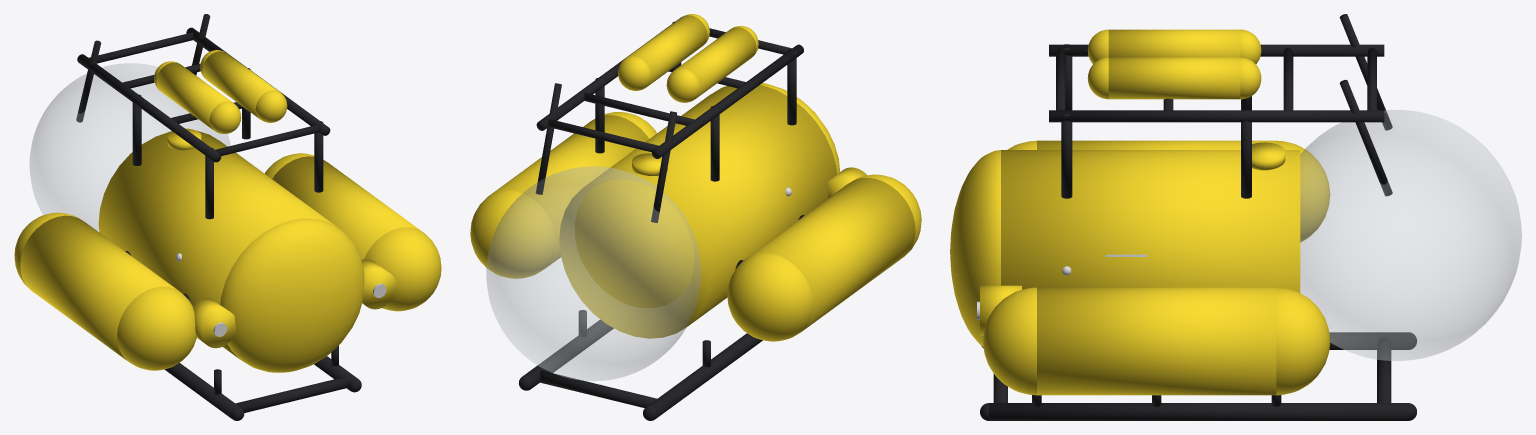
The model's file is Submarine 3.glb.
3 views of the same model, side by side, from view 1: azimuth 30°, elevation 25°; view 2: azimuth 150°, elevation 25°; view 3: azimuth 270°, elevation 25° (orthographic). The views are drawn at different scales.
Visible parts, largest first — view 1: Sub3_Hull, Sub3_Hull_RearCap, Sub3_Acrylic_Sphere, Sub3_BallastTank_L, Sub3_BallastTank_R, Sub3_BallastTank_L_Cap_-2.0, Sub3_BallastTank_R_Cap_-2.0, Sub3_TopCanister_2, Sub3_TopCanister_1, Sub3_CageRail_L, Sub3_Thruster_L, Sub3_SkidCrossBrace_1 (+14 smaller); view 2: Sub3_Hull, Sub3_Acrylic_Sphere, Sub3_BallastTank_L, Sub3_BallastTank_L_Cap_2.0, Sub3_BallastTank_R_Cap_2.0, Sub3_BallastTank_R, Sub3_TopCanister_1, Sub3_TopCanister_2, Sub3_CageRail_L, Sub3_Skid_L, Sub3_SkidCrossBrace_2, Sub3_Skid_R (+15 smaller); view 3: Sub3_Acrylic_Sphere, Sub3_Hull, Sub3_BallastTank_R, Sub3_Skid_R, Sub3_Hull_RearCap, Sub3_TopCanister_2, Sub3_BallastTank_R_Cap_2.0, Sub3_BallastTank_R_Cap_-2.0, Sub3_CageRail_R, Sub3_TopCanister_1, Sub3_BallastTank_L_Cap_2.0, Sub3_BallastTank_L (+16 smaller).
Boxes of the visible parts, <box> form: Sub3_Hull: <box>98,130,339,358</box>; Sub3_Hull_RearCap: <box>220,218,364,372</box>; Sub3_Acrylic_Sphere: <box>29,63,230,231</box>; Sub3_BallastTank_L: <box>20,215,179,360</box>; Sub3_BallastTank_R: <box>272,156,422,259</box>; Sub3_BallastTank_L_Cap_-2.0: <box>117,286,196,370</box>; Sub3_BallastTank_R_Cap_-2.0: <box>364,227,441,311</box>; Sub3_TopCanister_2: <box>202,51,278,118</box>; Sub3_TopCanister_1: <box>156,62,232,129</box>; Sub3_CageRail_L: <box>77,54,221,162</box>; Sub3_Thruster_L: <box>192,298,236,348</box>; Sub3_SkidCrossBrace_1: <box>235,377,346,412</box>; Sub3_Hull: <box>559,85,836,338</box>; Sub3_Acrylic_Sphere: <box>486,166,700,380</box>; Sub3_BallastTank_L: <box>747,178,915,331</box>; Sub3_BallastTank_L_Cap_2.0: <box>727,252,813,341</box>; Sub3_BallastTank_R_Cap_2.0: <box>470,190,555,278</box>; Sub3_BallastTank_R: <box>490,115,648,267</box>; Sub3_TopCanister_1: <box>675,27,756,98</box>; Sub3_TopCanister_2: <box>626,15,707,86</box>; Sub3_CageRail_L: <box>652,44,803,158</box>; Sub3_Skid_L: <box>647,333,762,418</box>; Sub3_SkidCrossBrace_2: <box>540,370,656,407</box>; Sub3_Skid_R: <box>523,319,613,388</box>; Sub3_Acrylic_Sphere: <box>1300,110,1521,360</box>; Sub3_Hull: <box>1001,150,1300,292</box>; Sub3_BallastTank_R: <box>1037,287,1276,395</box>; Sub3_Skid_R: <box>989,403,1408,420</box>; Sub3_Hull_RearCap: <box>950,150,1000,346</box>; Sub3_TopCanister_2: <box>1108,57,1240,99</box>; Sub3_BallastTank_R_Cap_2.0: <box>1276,287,1330,395</box>; Sub3_BallastTank_R_Cap_-2.0: <box>983,287,1036,395</box>; Sub3_CageRail_R: <box>1049,110,1384,122</box>; Sub3_TopCanister_1: <box>1108,29,1240,57</box>; Sub3_BallastTank_L_Cap_2.0: <box>1276,140,1330,242</box>; Sub3_BallastTank_L: <box>1037,140,1276,149</box>.
Size of the model in its own units: 7.6 by 6.25 by 9.55.
